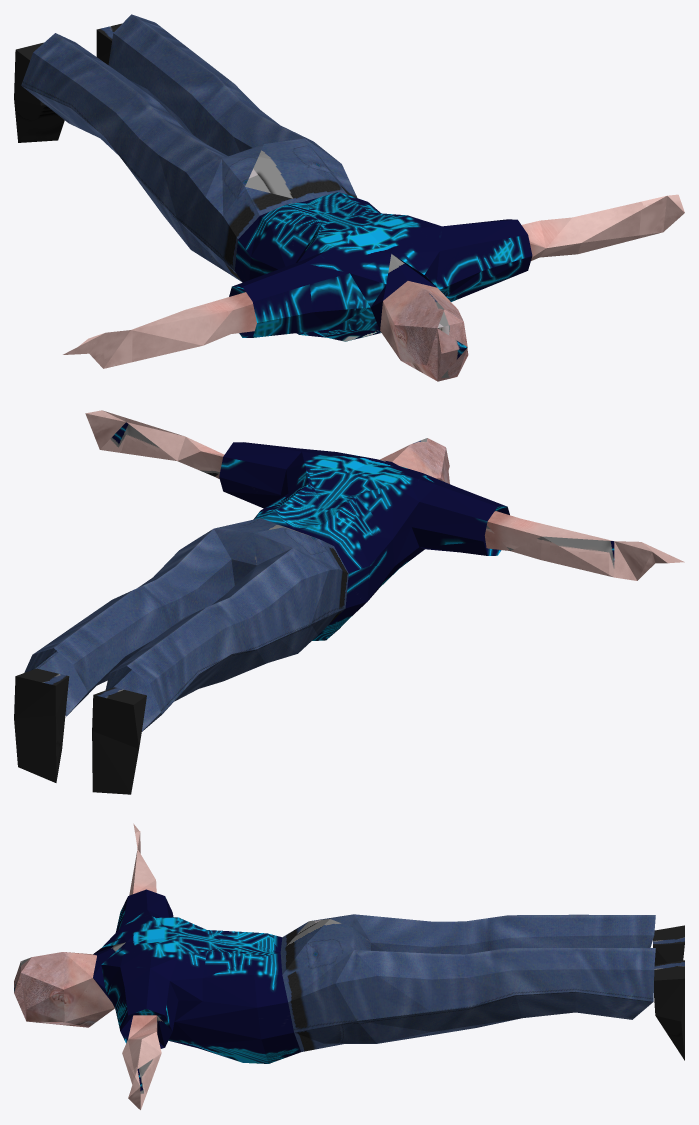
The model's file is tomdrinman2tronguylow_wtf.obj.
The picture shows the model from 3 angles, top to bottom: view 1: azimuth 30°, elevation 25°; view 2: azimuth 150°, elevation 25°; view 3: azimuth 270°, elevation 25°; orthographic projection. The views are drawn at different scales.
Visible parts, largest first — view 1: group1; view 2: group1; view 3: group1.
Part boxes in pixels (x1,y1,x2,y2): group1: (14, 14, 684, 381); group1: (14, 410, 684, 794); group1: (14, 823, 684, 1109).
Size of the model in its own units: 626 by 140 by 660.
